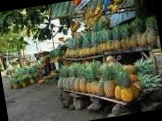Pineapple: (101, 61, 118, 97)
